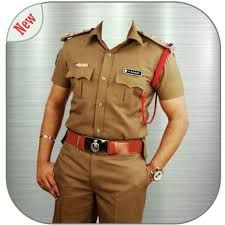uniform: (54, 27, 156, 213)
